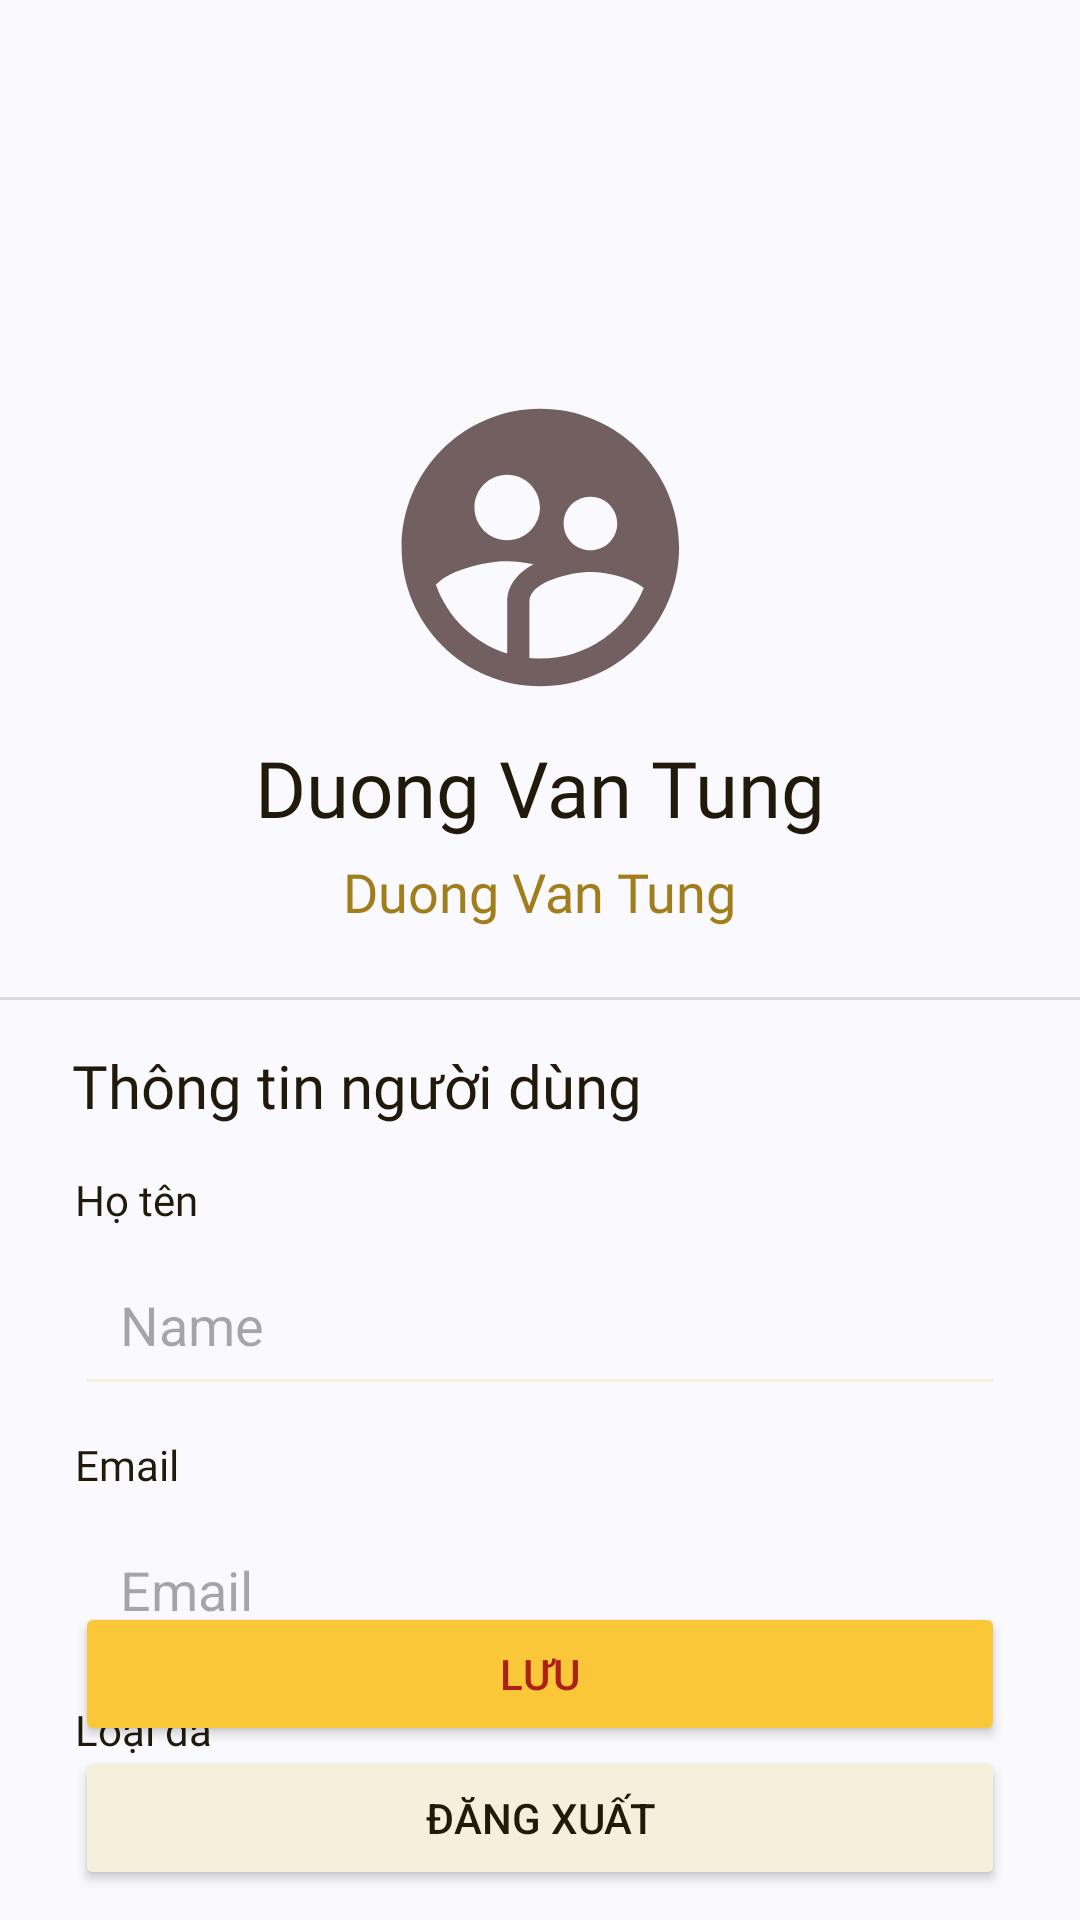

Screen size 1080px x 1920px. Icon name, then its center in pixels as point (x, y):
supervised user circle: point (540, 547)
